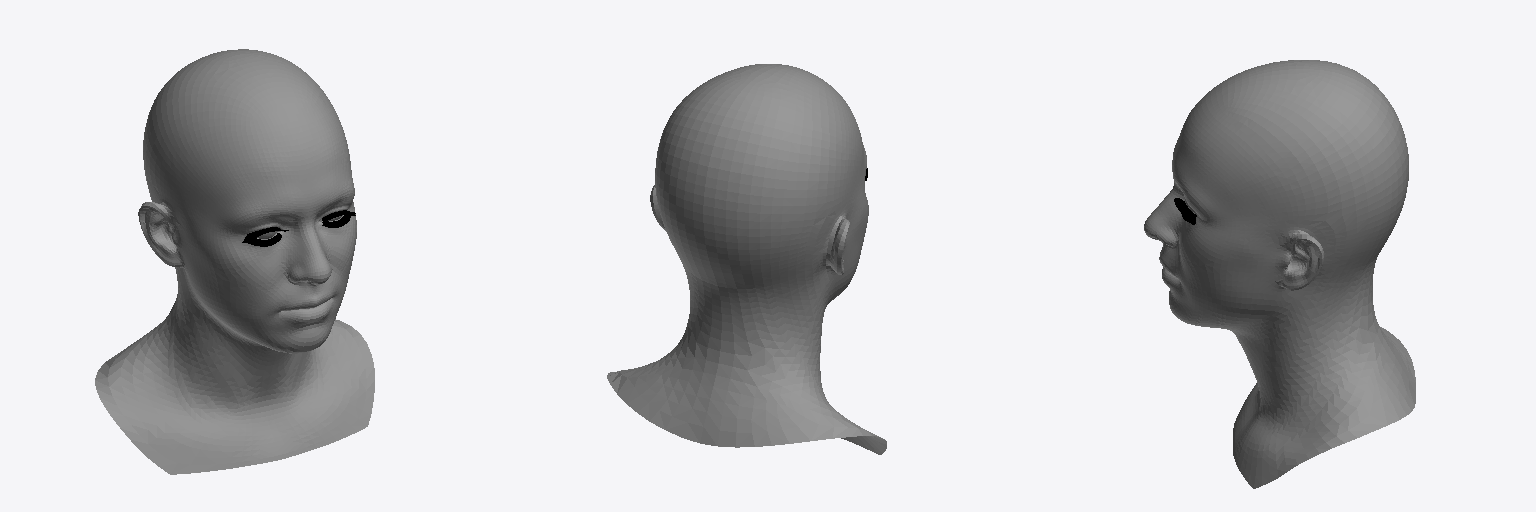
Rendered from cheekSquint_L.obj.
The picture shows the model from 3 angles: view 1: azimuth 30°, elevation 25°; view 2: azimuth 150°, elevation 25°; view 3: azimuth 270°, elevation 25°; orthographic projection.
Bounding box in the file's own units: 24.83 × 33.81 × 22.3.